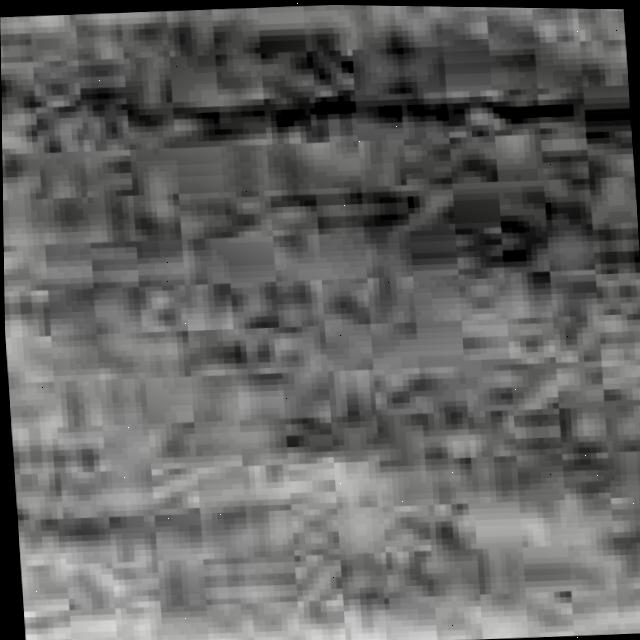paper: (0, 4, 640, 640)
